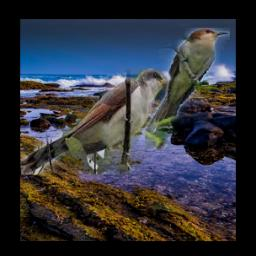Cuckoo: (21, 69, 176, 174), (144, 28, 229, 149)
